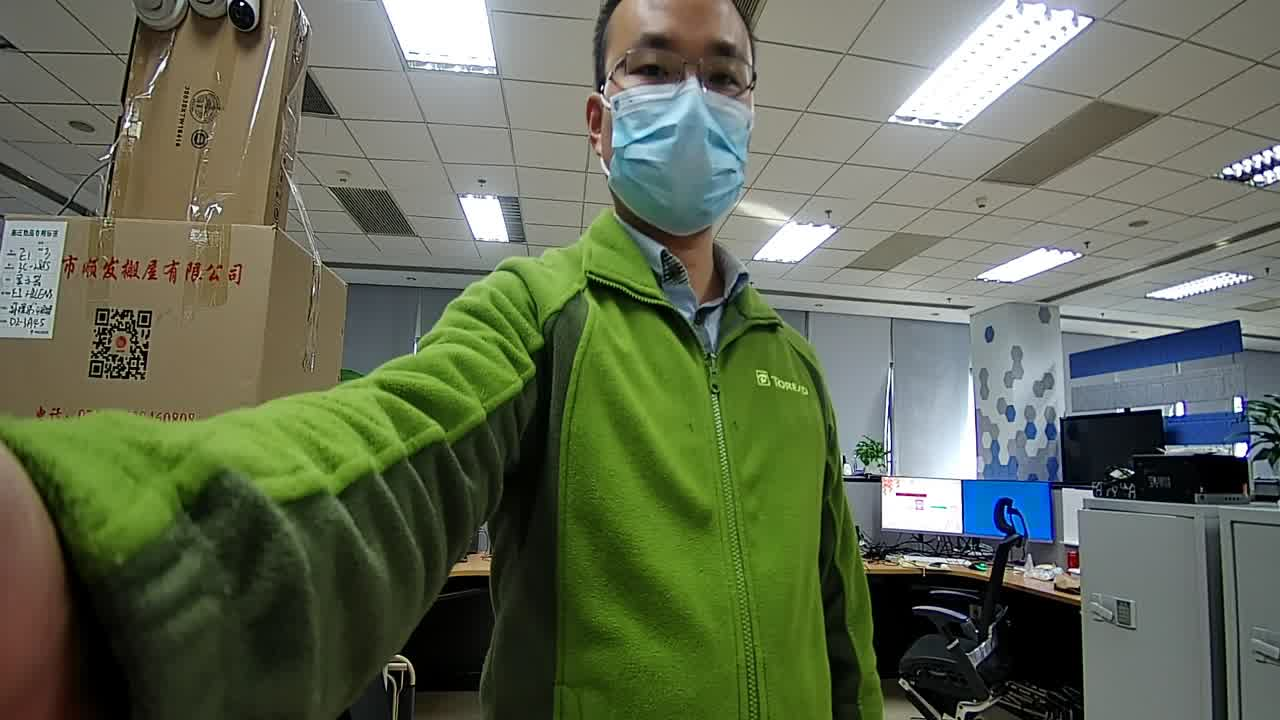face: (599, 12, 762, 233)
mask: (607, 80, 747, 236)
person: (438, 1, 821, 380)
